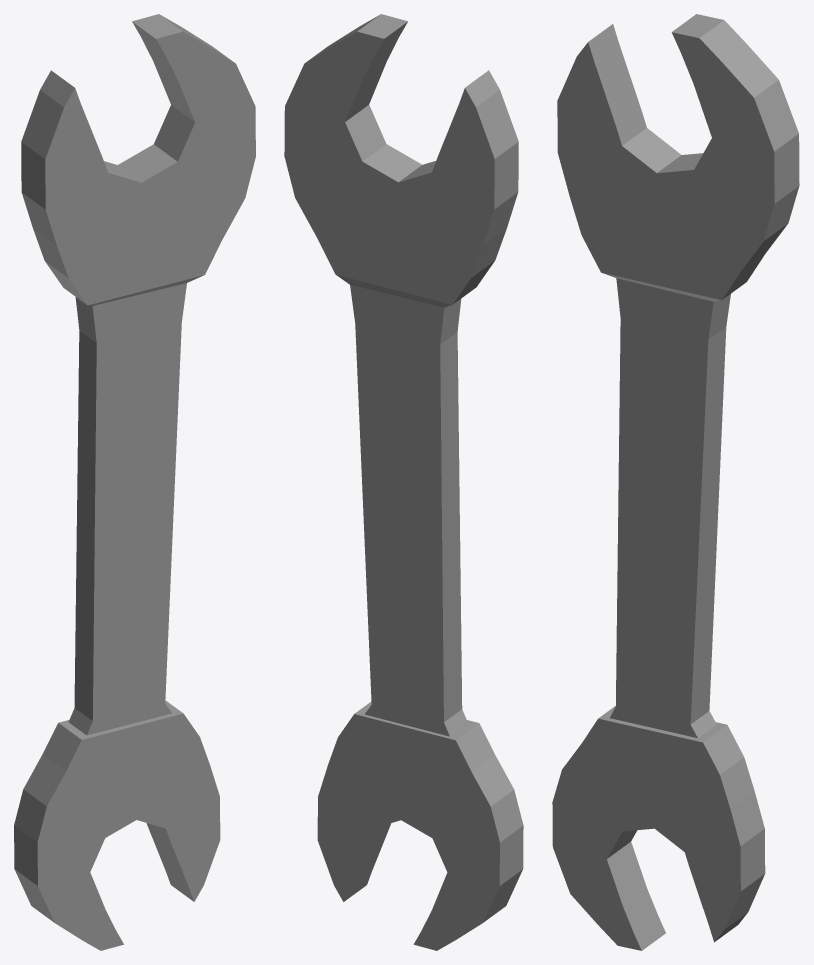
The model's file is wrench02.gltf.
3 views of the same model, side by side, from view 1: azimuth 30°, elevation 25°; view 2: azimuth 150°, elevation 25°; view 3: azimuth 330°, elevation 25° (orthographic). The views are drawn at different scales.
Parts seen in each view (by area): view 1: Cube; view 2: Cube; view 3: Cube.
Boxes of the visible parts, box(x1,y1,x2,y2) form: Cube: box(14, 14, 255, 950); Cube: box(284, 14, 523, 950); Cube: box(552, 14, 799, 950).
Size of the model in its own units: 0.0519 by 0.206 by 0.0104.
Materials: 1 (1 with a texture image).
